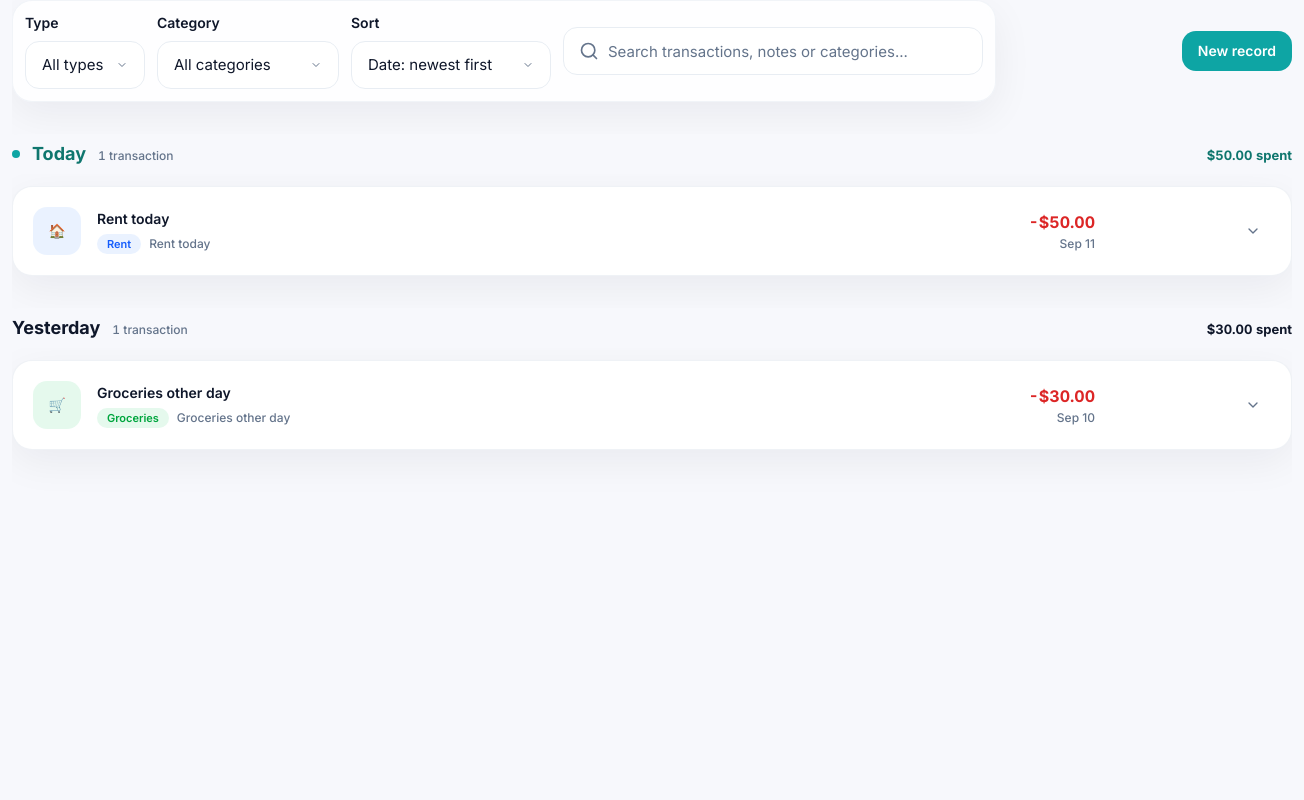
TransactionList timeline polish › expands a transaction into a details panel with labeled actions
Click the 1st button named "Show transaction details" at (1253, 231), box top-left (1235, 213), bottom-right (1271, 249)
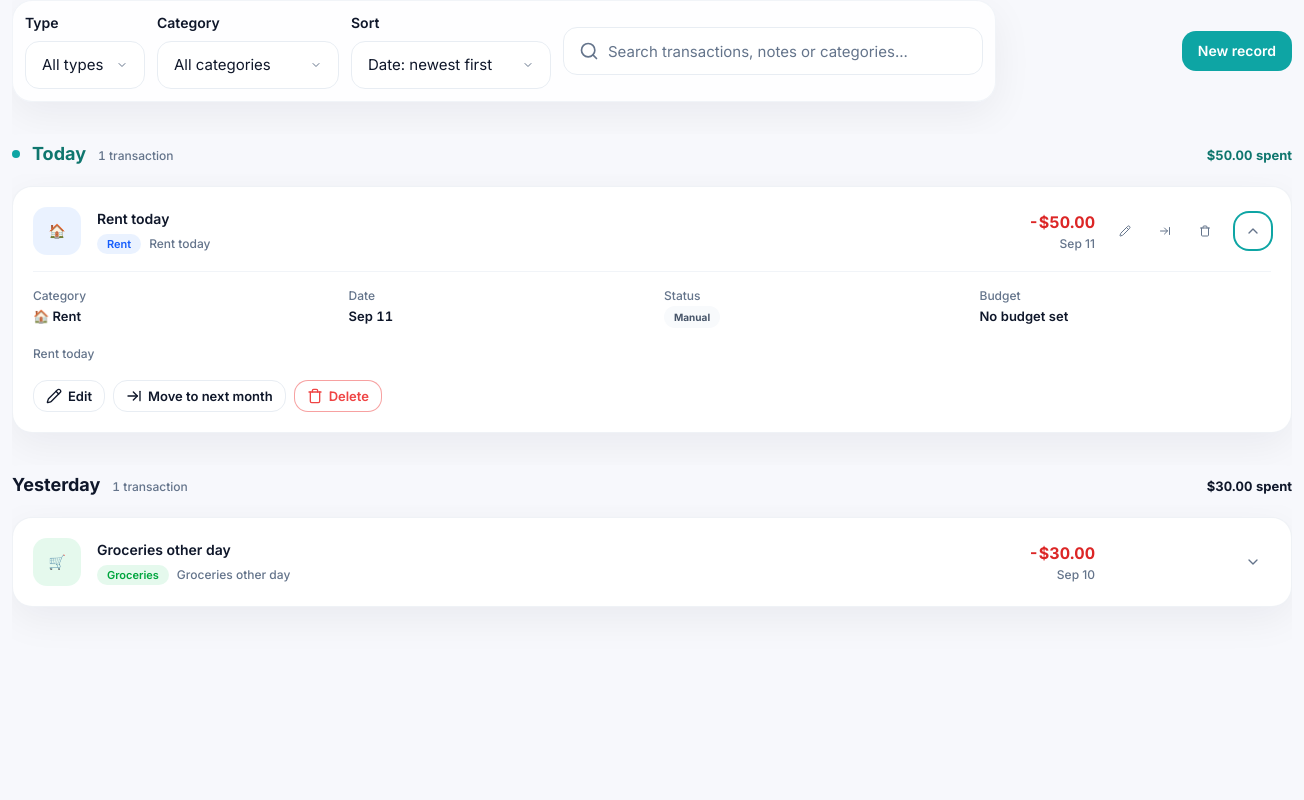
Expected: the button "Edit" is shown, top-left (33, 380), bottom-right (105, 412)
Expected: the number of buttons named "Move to next month" is 3
Expected: the button "Delete" is shown, top-left (294, 380), bottom-right (382, 412)
